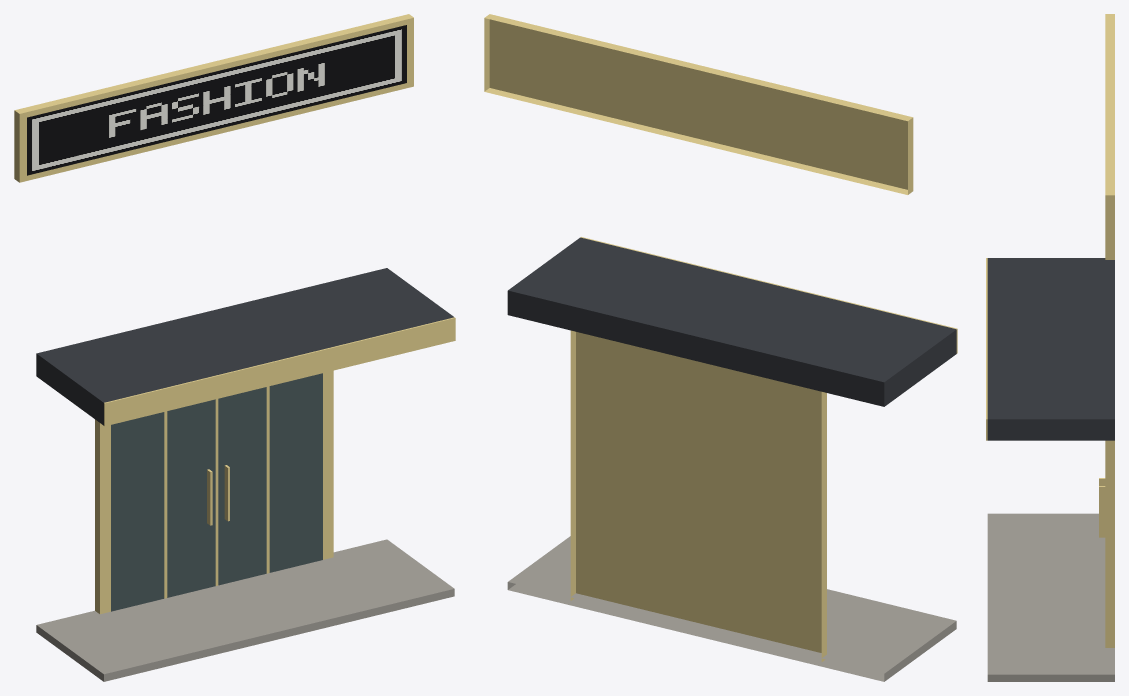
The model's file is entrance_close.fbx.
3 views of the same model, side by side, from view 1: azimuth 30°, elevation 25°; view 2: azimuth 150°, elevation 25°; view 3: azimuth 270°, elevation 25° (orthographic). The views are drawn at different scales.
Parts seen in each view (by area): view 1: a2009/800/entrance_close; view 2: a2009/800/entrance_close; view 3: a2009/800/entrance_close.
Boxes of the visible parts, box(x1,y1,x2,y2) form: a2009/800/entrance_close: box(14, 14, 455, 681); a2009/800/entrance_close: box(484, 14, 957, 681); a2009/800/entrance_close: box(986, 14, 1114, 681).
Size of the model in its own units: 5.4 by 6.9 by 1.62.
